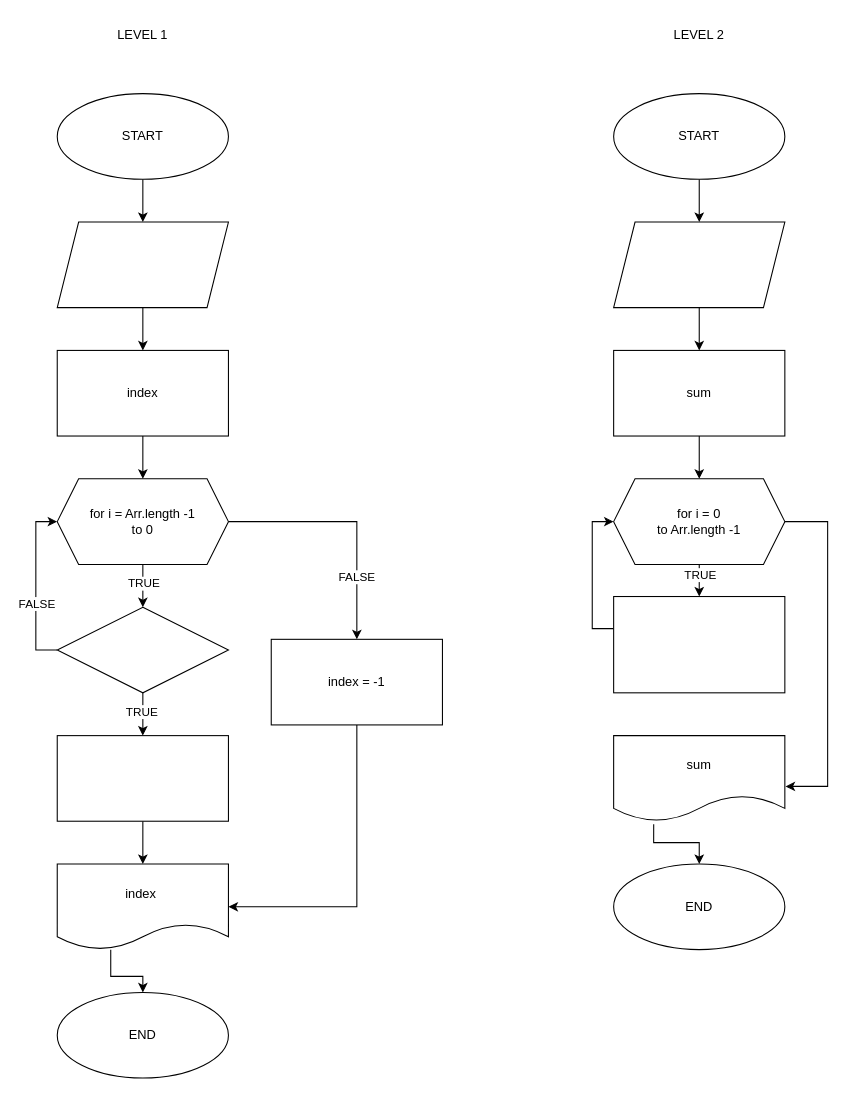
The diagram is 855 pixels wide and 1097 high, and some of its shapes have lost their labels. Each missing label, with the box of its shape:
Arr []: (613, 221, 785, 308)
Arr [], num,: (56, 221, 228, 308)
if Arr[i] = num: (56, 606, 228, 693)
index = i: (56, 735, 228, 821)
sum + = Arr[i] * Arr[i]: (613, 595, 785, 693)
